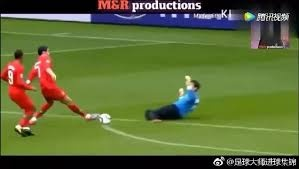falling: (143, 69, 204, 122)
